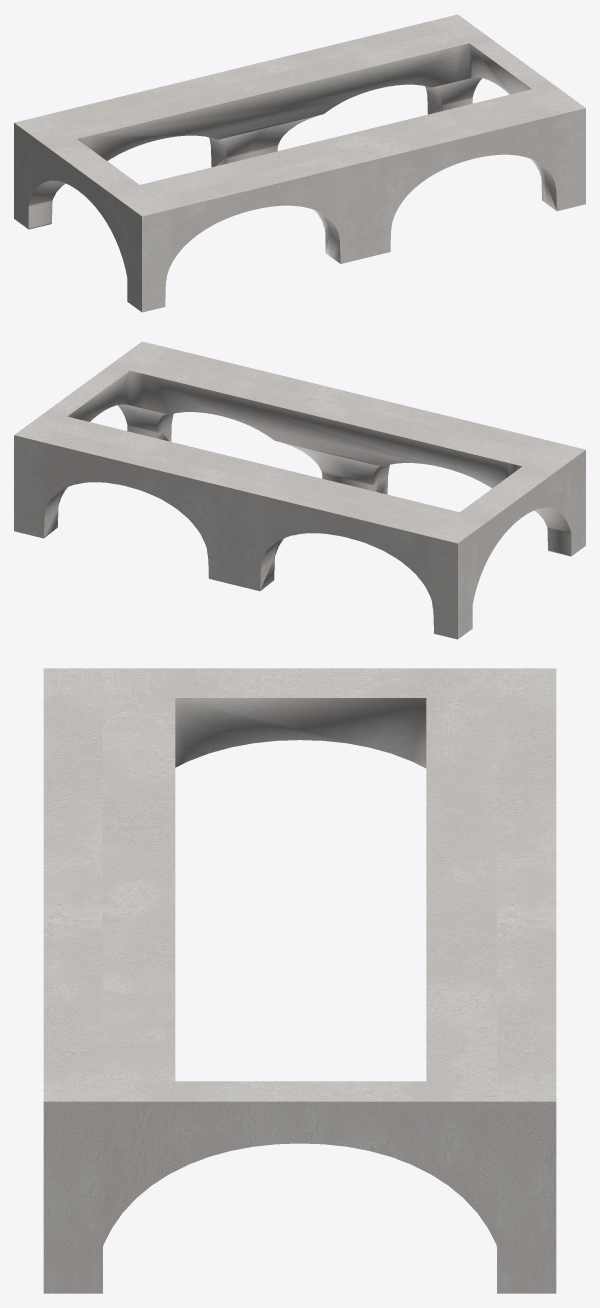
Rendered from ArchwayConnecting.glb.
The picture shows the model from 3 angles, top to bottom: view 1: azimuth 30°, elevation 25°; view 2: azimuth 150°, elevation 25°; view 3: azimuth 270°, elevation 25°; orthographic projection. The views are drawn at different scales.
Parts seen in each view (by area): view 1: CeilingArchwayConnecting; view 2: CeilingArchwayConnecting; view 3: CeilingArchwayConnecting.
Part boxes in pixels (x1,y1,x2,y2): CeilingArchwayConnecting: [14, 14, 585, 312]; CeilingArchwayConnecting: [14, 341, 585, 639]; CeilingArchwayConnecting: [43, 668, 556, 1293].
Size of the model in its own units: 16 by 3.31 by 8.
Materials: 1 (1 with a texture image).
